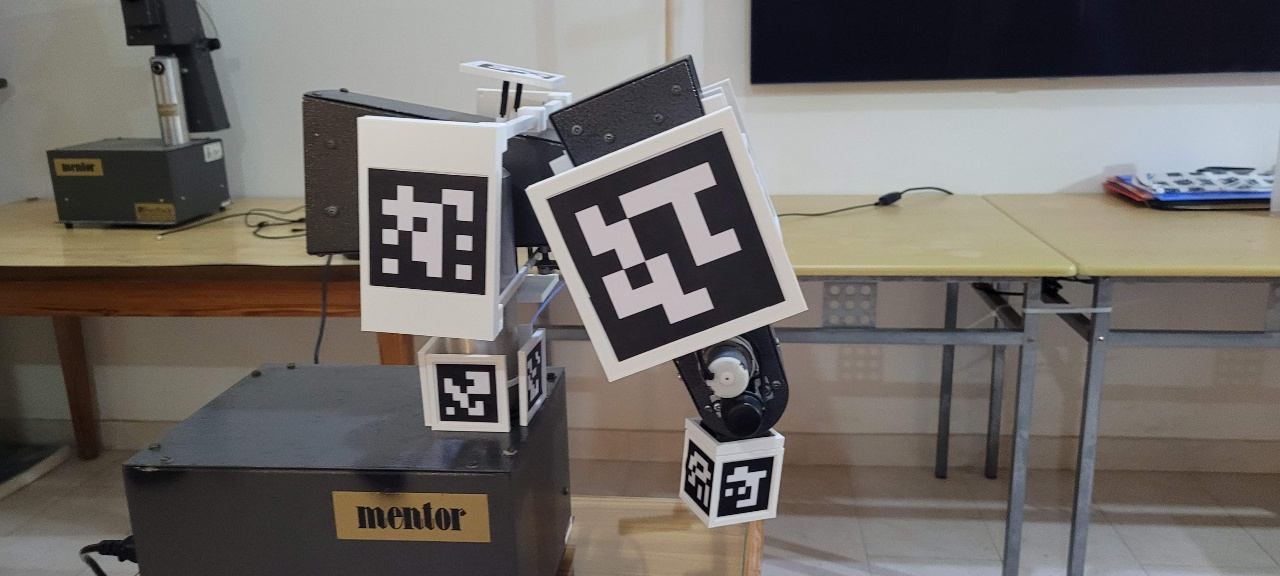Robot: (300, 53, 811, 532)
